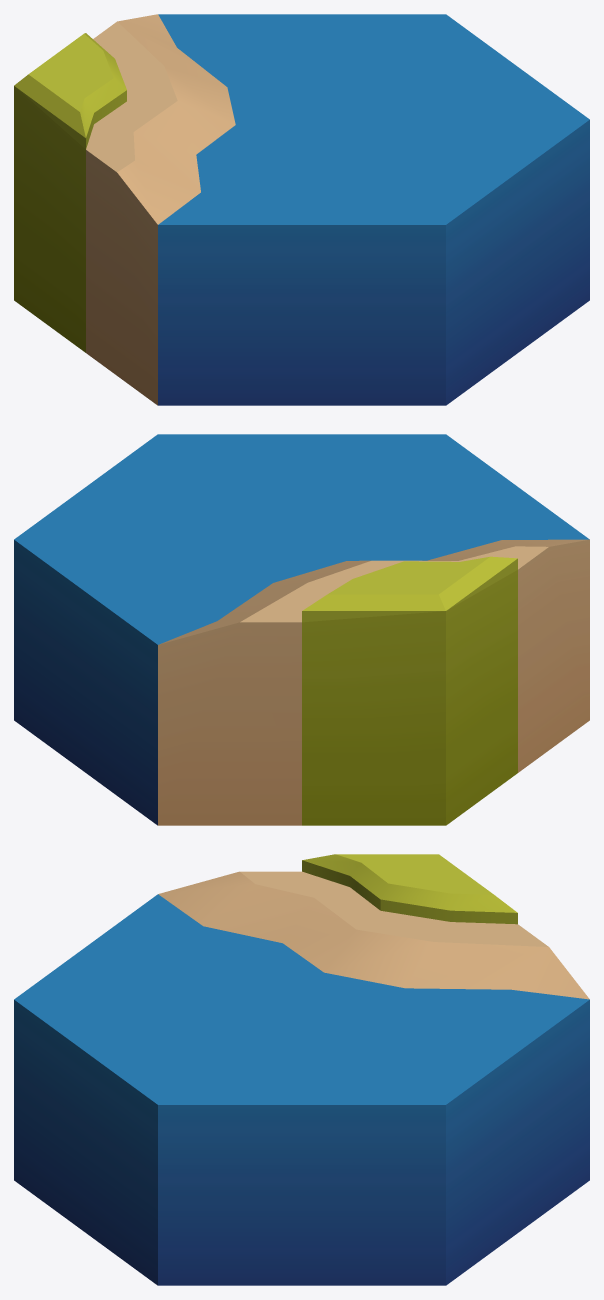
Rendered from hex_coast_d.glb.
The picture shows the model from 3 angles, top to bottom: view 1: azimuth 30°, elevation 25°; view 2: azimuth 150°, elevation 25°; view 3: azimuth 270°, elevation 25°; orthographic projection.
Parts seen in each view (by area): view 1: hex_coast_D; view 2: hex_coast_D; view 3: hex_coast_D.
Part boxes in pixels (bbox=[...]): hex_coast_D: bbox=[14, 14, 589, 405]; hex_coast_D: bbox=[14, 434, 589, 825]; hex_coast_D: bbox=[14, 854, 589, 1285].
Bounding box in the file's own units: 2 × 1 × 2.31.
Materials: 1 (1 with a texture image).
